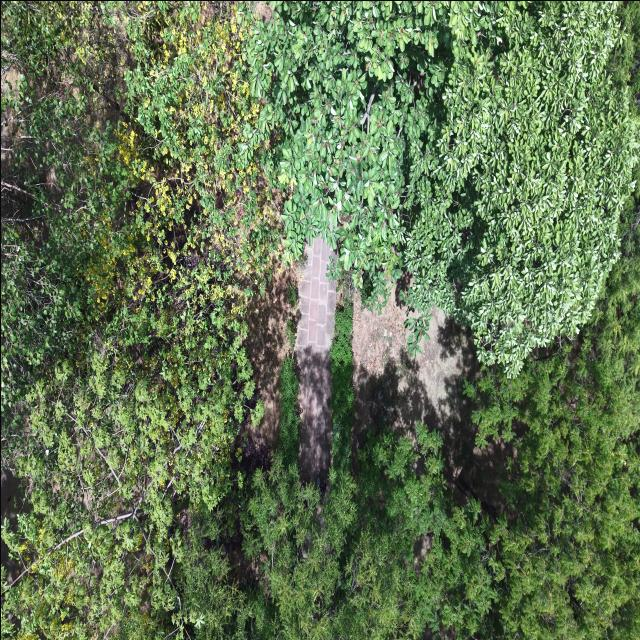DRY_AREA: (352, 294, 510, 516), (352, 293, 511, 513), (352, 293, 510, 513), (242, 239, 335, 484), (352, 294, 465, 439), (352, 297, 462, 432), (238, 270, 295, 469), (296, 347, 331, 485), (296, 238, 335, 353), (1, 470, 28, 531), (253, 1, 272, 22)
PATHWAYS: (296, 238, 335, 484)
VEGETATION_TREE: (1, 1, 639, 639), (1, 3, 279, 638), (179, 259, 639, 639), (245, 1, 637, 376), (179, 305, 494, 639), (244, 305, 493, 639), (467, 165, 639, 639), (468, 257, 639, 639), (611, 1, 639, 115)
